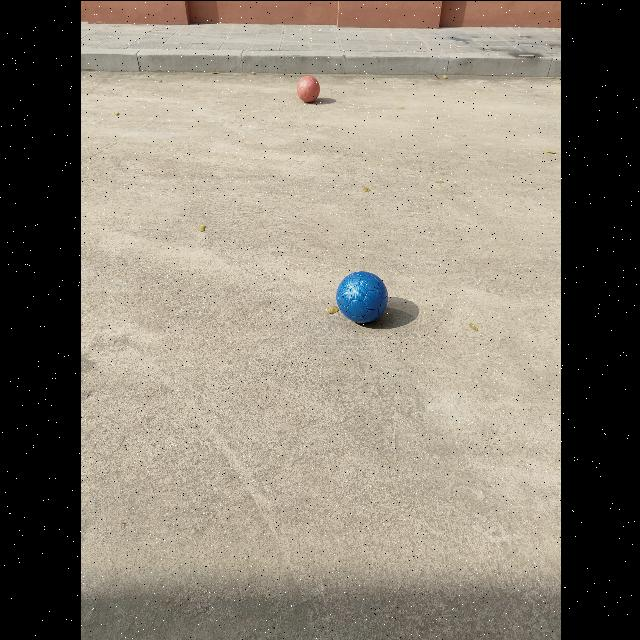B: (335, 271, 387, 322)
R: (296, 75, 319, 102)
